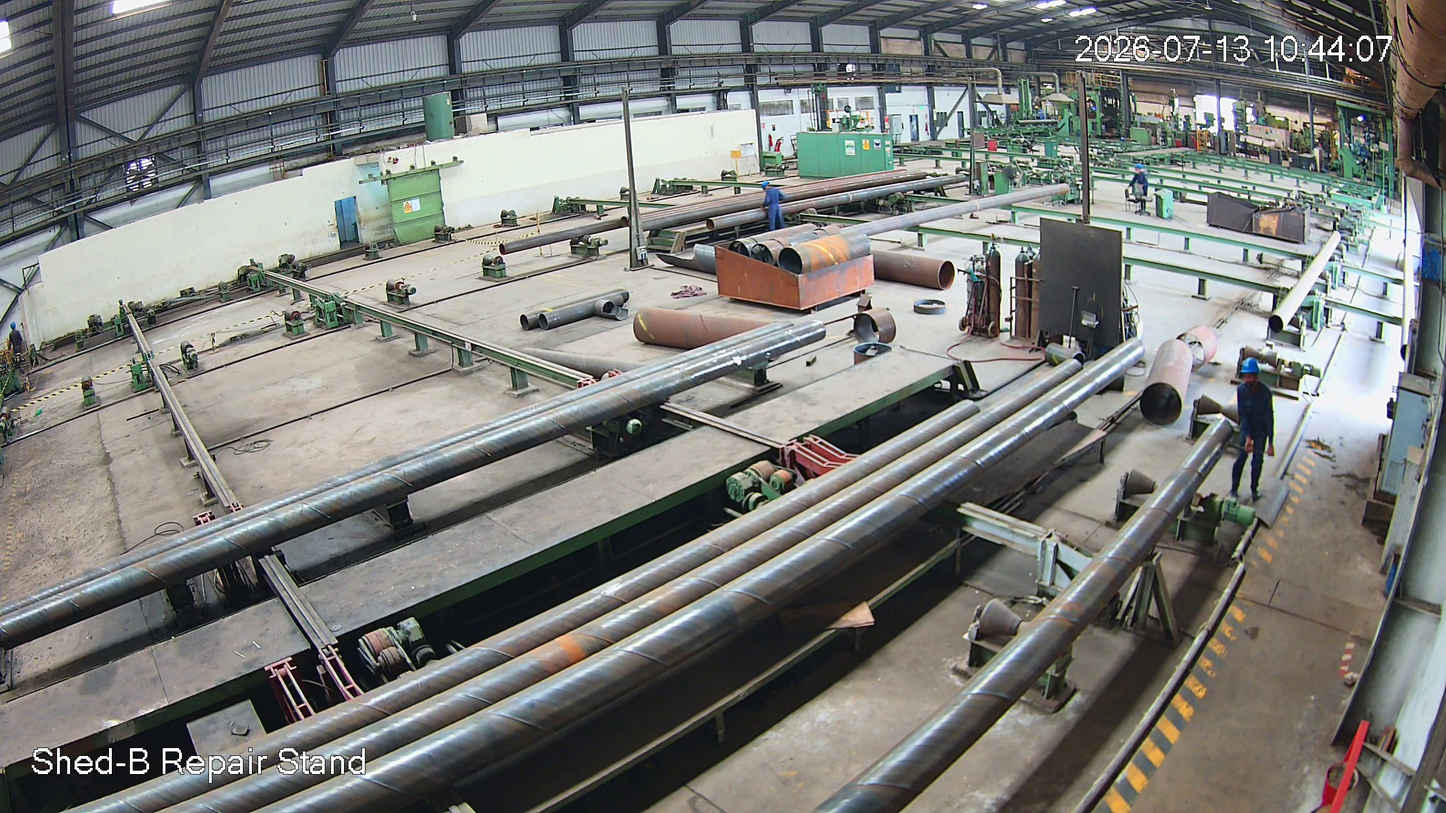Helmet: (1238, 357, 1266, 395)
Person: (1230, 358, 1277, 507)
